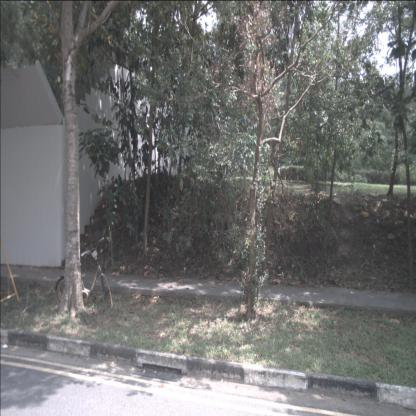vehicle-bicycle: (54, 236, 114, 312)
